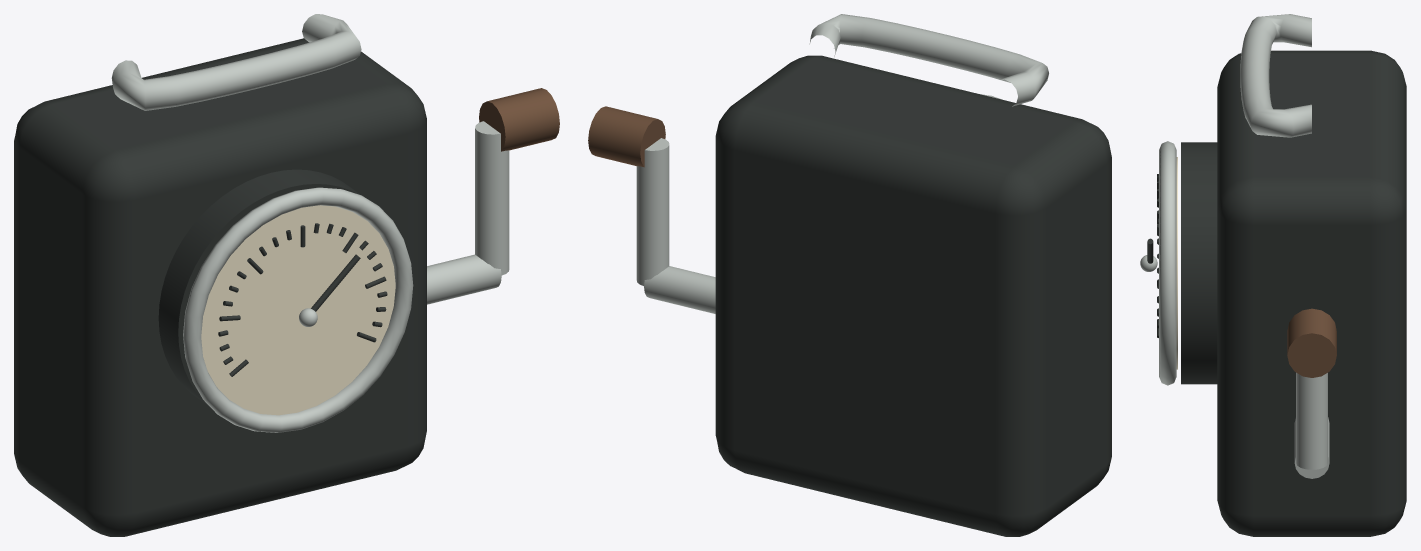
Rendered from abandoned-telephone-exchange-insulation-test-meter-e4d96a43__31996.glb.
3 renders of one model, left to right at view 1: azimuth 30°, elevation 25°; view 2: azimuth 150°, elevation 25°; view 3: azimuth 270°, elevation 25°, orthographic. The views are drawn at different scales.
Parts seen in each view (by area): view 1: insulation-test-meter; view 2: insulation-test-meter; view 3: insulation-test-meter.
Boxes of the visible parts, <box> form: insulation-test-meter: <box>14,14,559,536</box>; insulation-test-meter: <box>588,14,1111,536</box>; insulation-test-meter: <box>1140,14,1406,536</box>.
Bounding box in the file's own units: 0.365 × 0.31 × 0.183.
